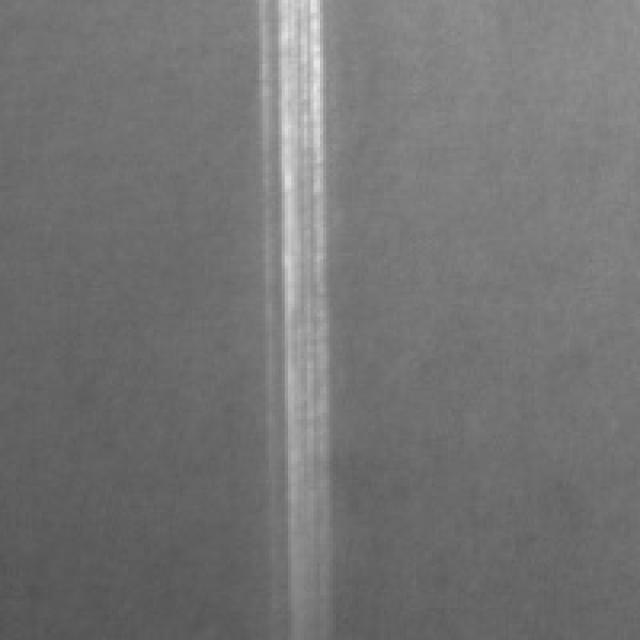scratches: (252, 0, 346, 579)
